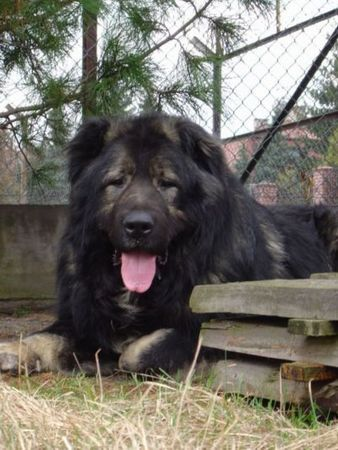cau_ovcharka: (0, 110, 338, 378)
